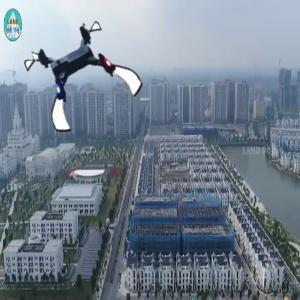drone: (34, 26, 136, 128)
